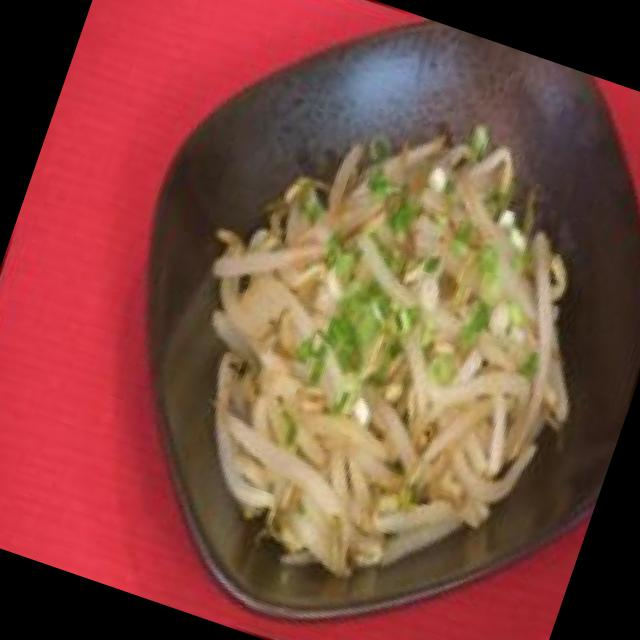mung_bean_sprouts: (149, 72, 633, 622)
